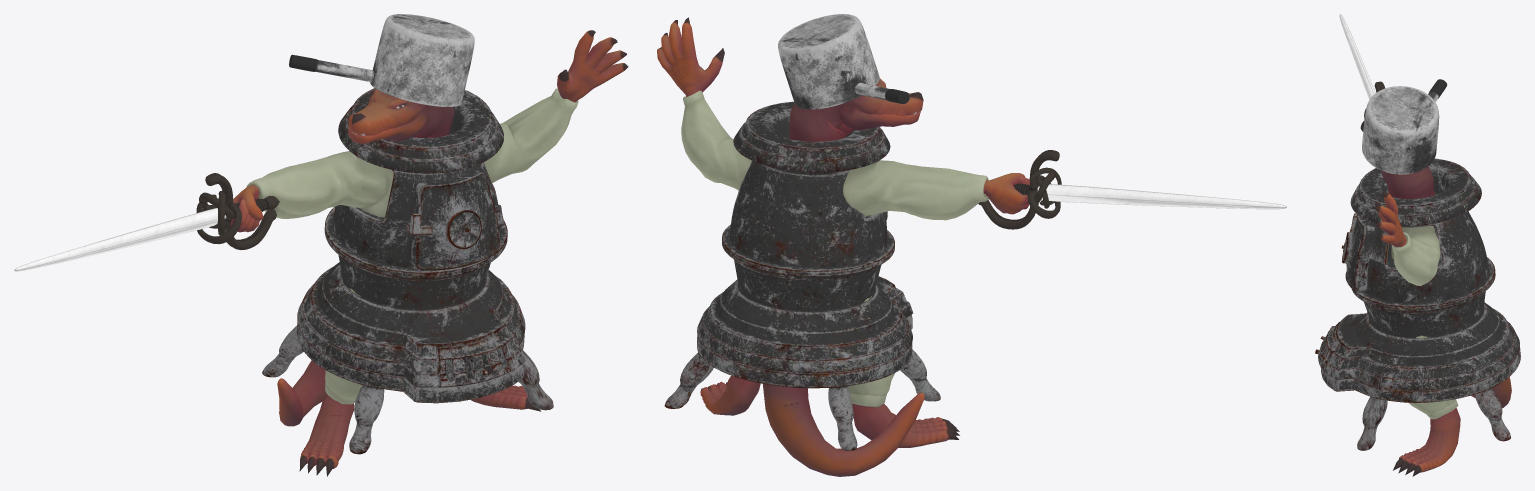
Rendered from MZ4250 - Kobold Fighter Obese with Stove as Armor.glb.
3 views of the same model, side by side, from view 1: azimuth 30°, elevation 25°; view 2: azimuth 150°, elevation 25°; view 3: azimuth 270°, elevation 25° (orthographic). The views are drawn at different scales.
Visible parts, largest first — view 1: Cylinder.005; view 2: Cylinder.005; view 3: Cylinder.005.
Boxes of the visible parts, box(x1,y1,x2,y2) form: Cylinder.005: box(14, 14, 628, 476); Cylinder.005: box(657, 14, 1286, 476); Cylinder.005: box(1315, 14, 1520, 476).
Size of the model in its own units: 48.23 by 30.39 by 16.97.
5 materials, 5 textured.
